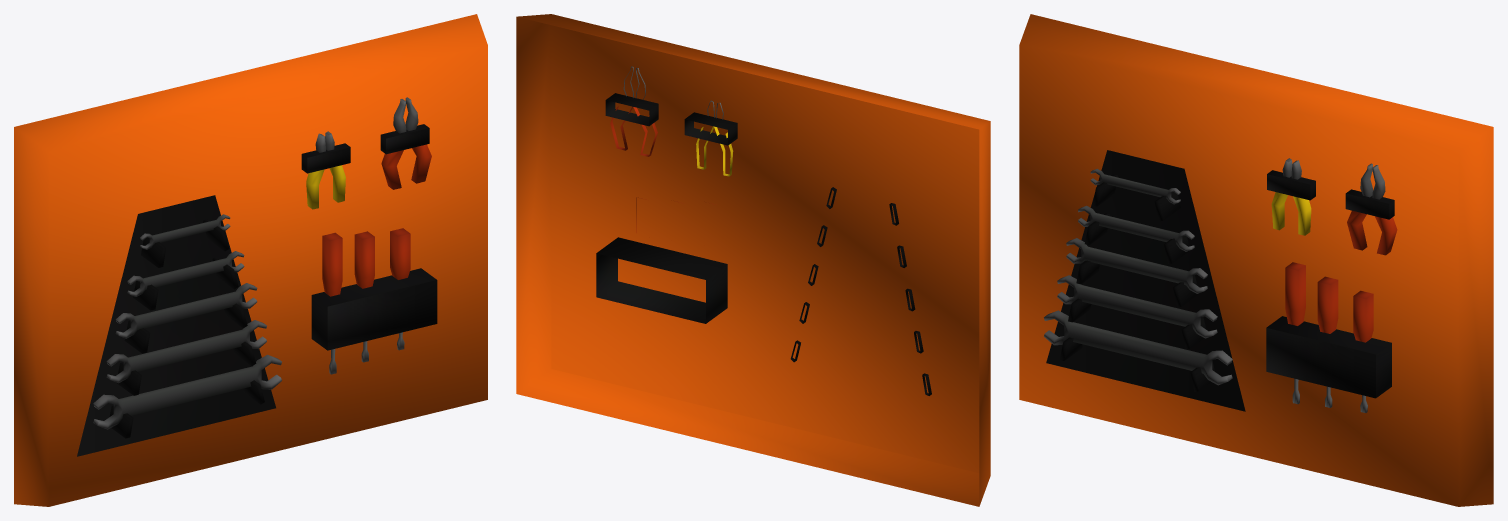
File: MuralFerramentas 1.fbx
3 renders of one model, left to right at view 1: azimuth 30°, elevation 25°; view 2: azimuth 150°, elevation 25°; view 3: azimuth 330°, elevation 25°, orthographic.
Visible parts, largest first — view 1: MuralFerramentas; view 2: MuralFerramentas; view 3: MuralFerramentas.
Part boxes in pixels (x1=…): MuralFerramentas: x1=14, y1=14, x2=487, y2=506; MuralFerramentas: x1=516, y1=14, x2=990, y2=506; MuralFerramentas: x1=1019, y1=14, x2=1493, y2=506.
Bounding box in the file's own units: 157 × 122 × 24.27.
